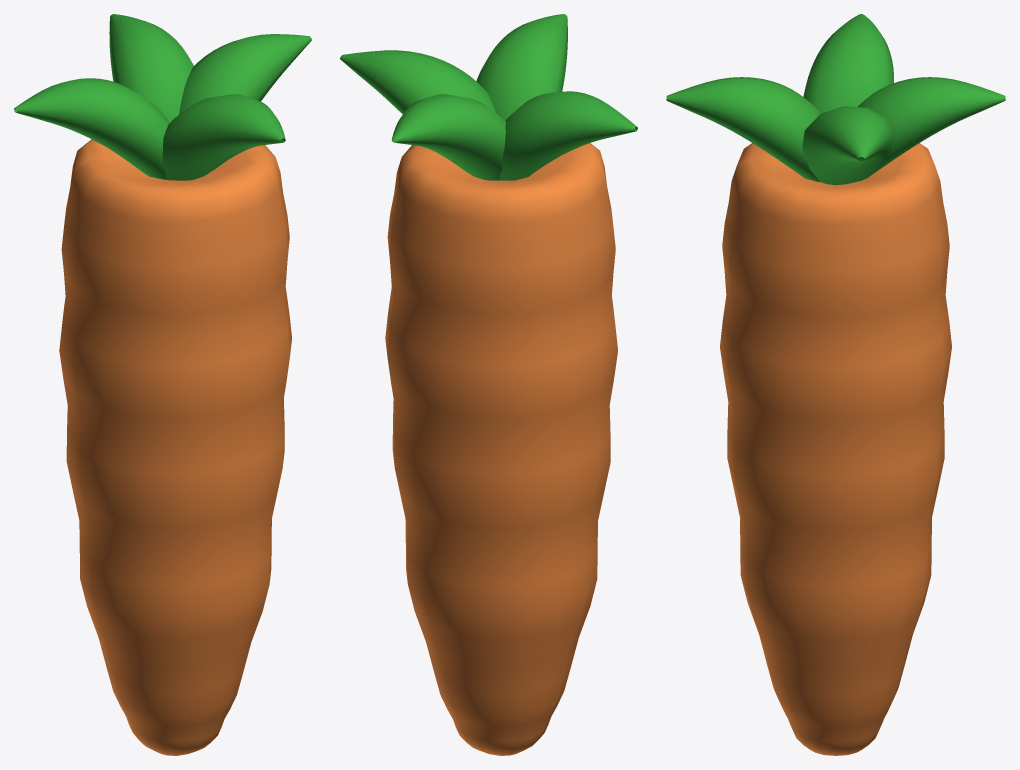
File: Carrot.fbx
3 views of the same model, side by side, from view 1: azimuth 30°, elevation 25°; view 2: azimuth 150°, elevation 25°; view 3: azimuth 270°, elevation 25° (orthographic).
Parts seen in each view (by area): view 1: Carrot; view 2: Carrot; view 3: Carrot.
Part boxes in pixels (<box>): Carrot: <box>14,14,311,755</box>; Carrot: <box>340,14,637,755</box>; Carrot: <box>666,14,1005,755</box>.
Size of the model in its own units: 220 by 485 by 220.
